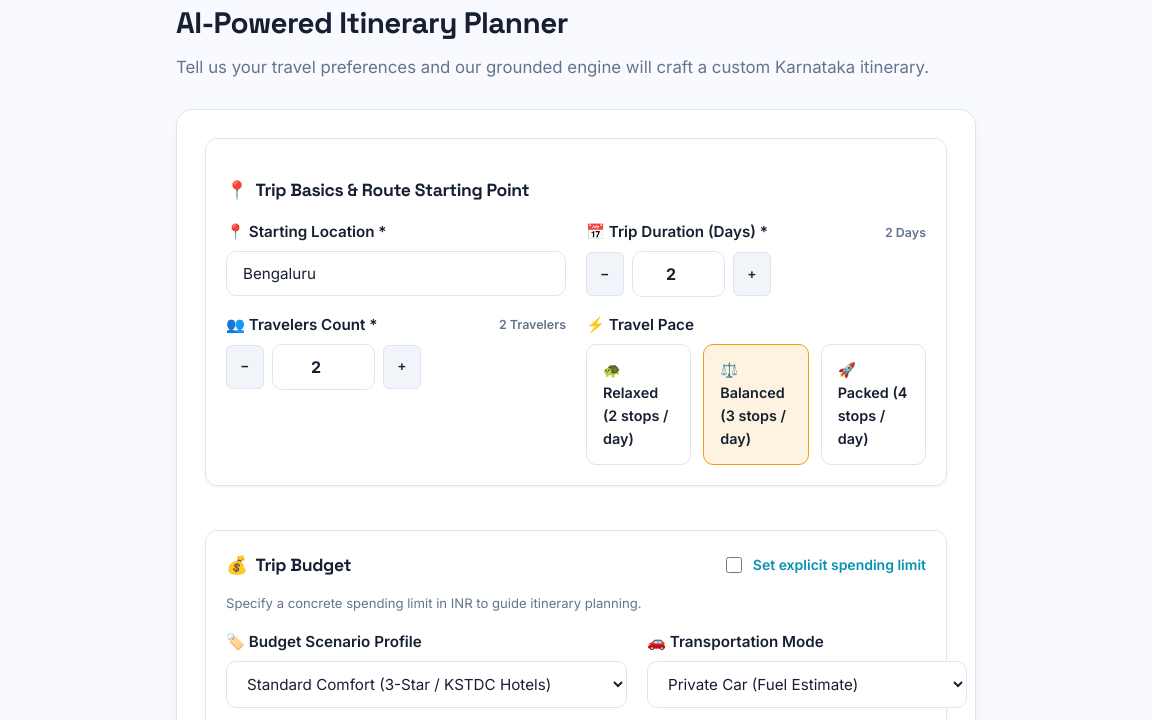
it: TripPlannerForm Numeric Inputs & Transport Mode (Workstreams A, C, D) › increments and decrements duration and travelers count via +/- buttons
Check: the number field with test id "planner-duration-input" holds "2", box [632,251,725,297]
Click the button with test id "increase-duration-btn". click: x=752, y=274
box: [733,252,771,296]
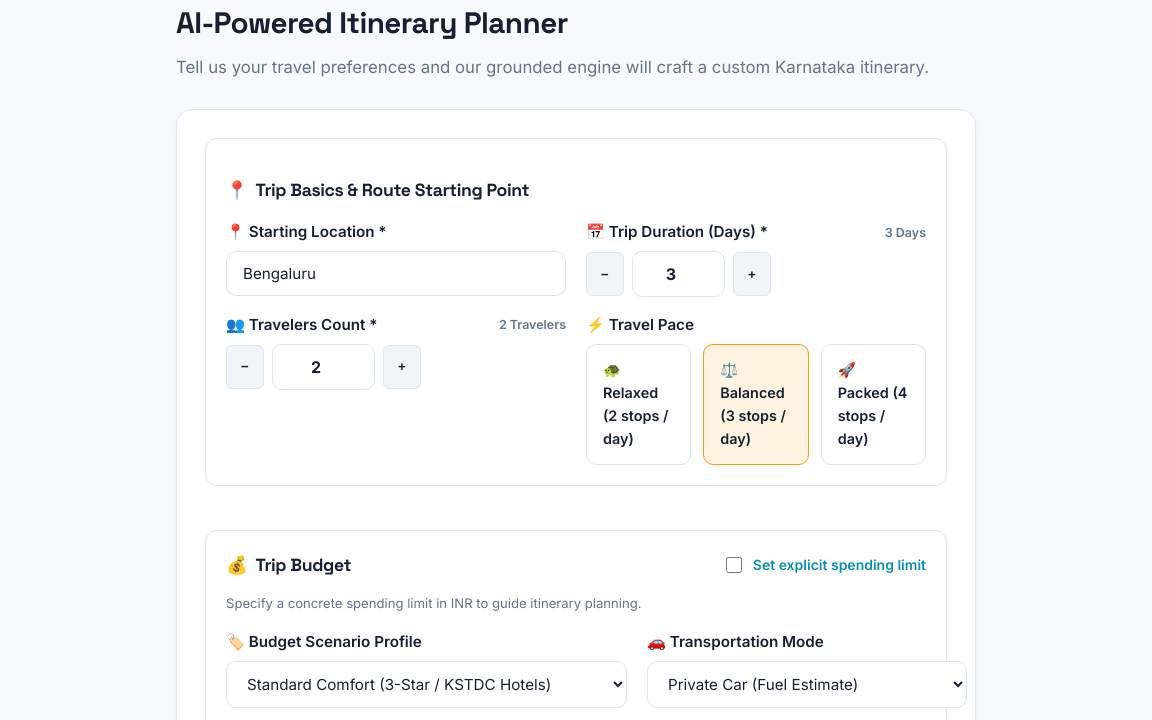
Check: the number field with test id "planner-duration-input" holds "3", box [632,251,725,297]
Click the button with test id "decrease-duration-btn". click: x=605, y=274
box: [586,252,624,296]
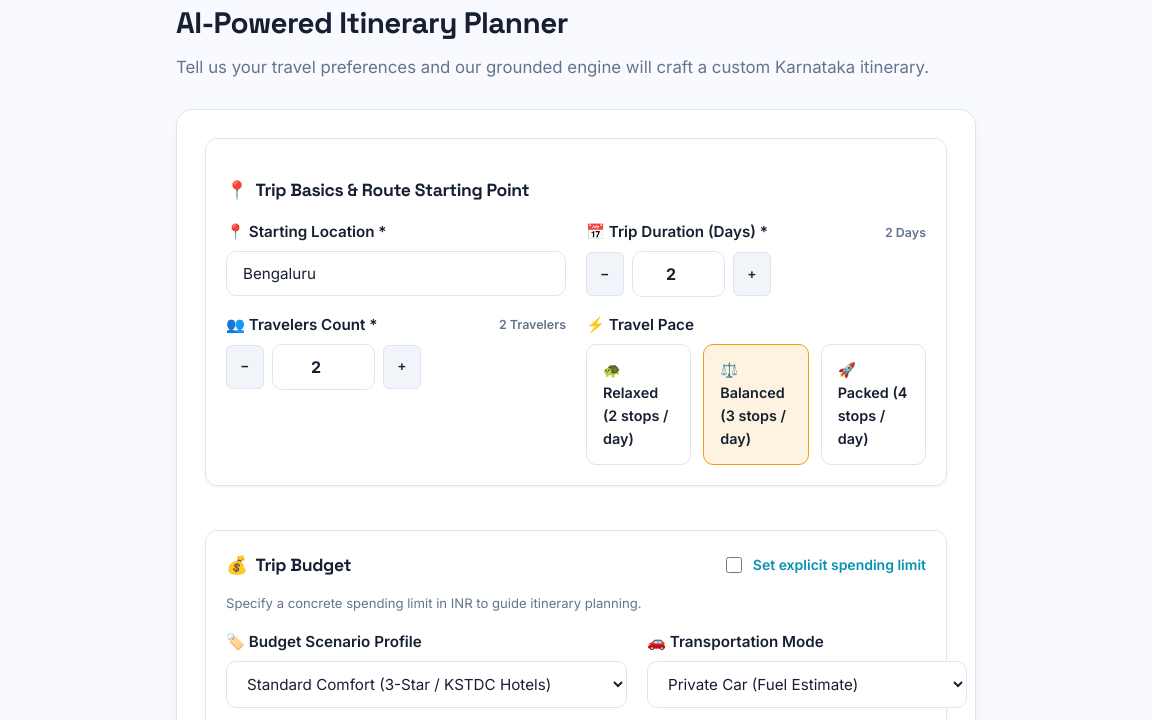
Check: the number field with test id "planner-travelers-input" holds "2", box [272,344,375,390]
Check: the number field with test id "planner-duration-input" holds "2", box [632,251,725,297]
Click the button with test id "increase-travelers-btn". click: x=402, y=367
box: [383,345,421,389]
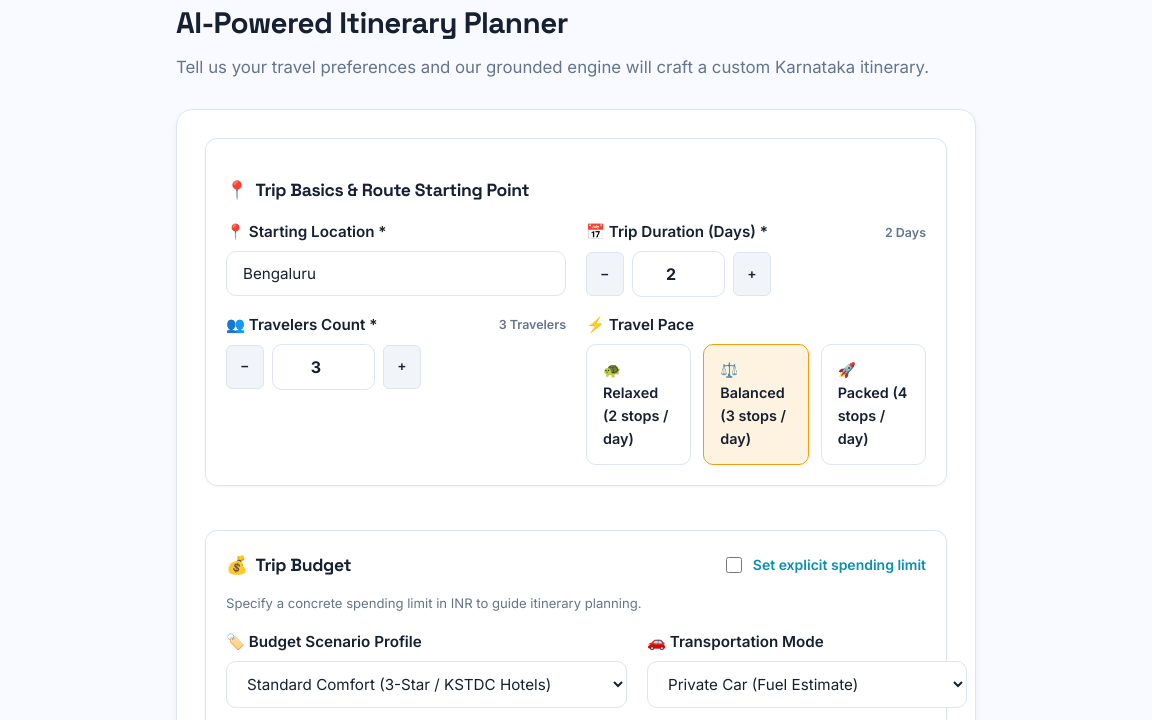
Check: the number field with test id "planner-travelers-input" holds "3", box [272,344,375,390]
Click the button with test id "decrease-travelers-btn". click: x=245, y=367
box: [226,345,264,389]
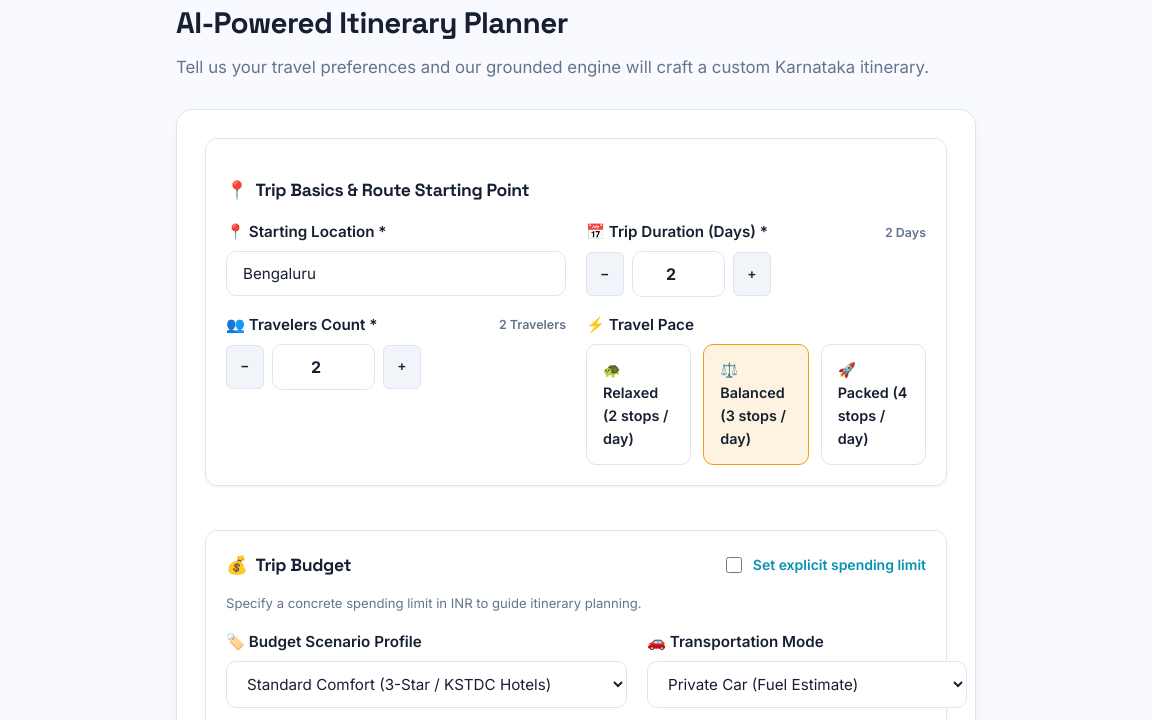
Check: the number field with test id "planner-travelers-input" holds "2", box [272,344,375,390]
